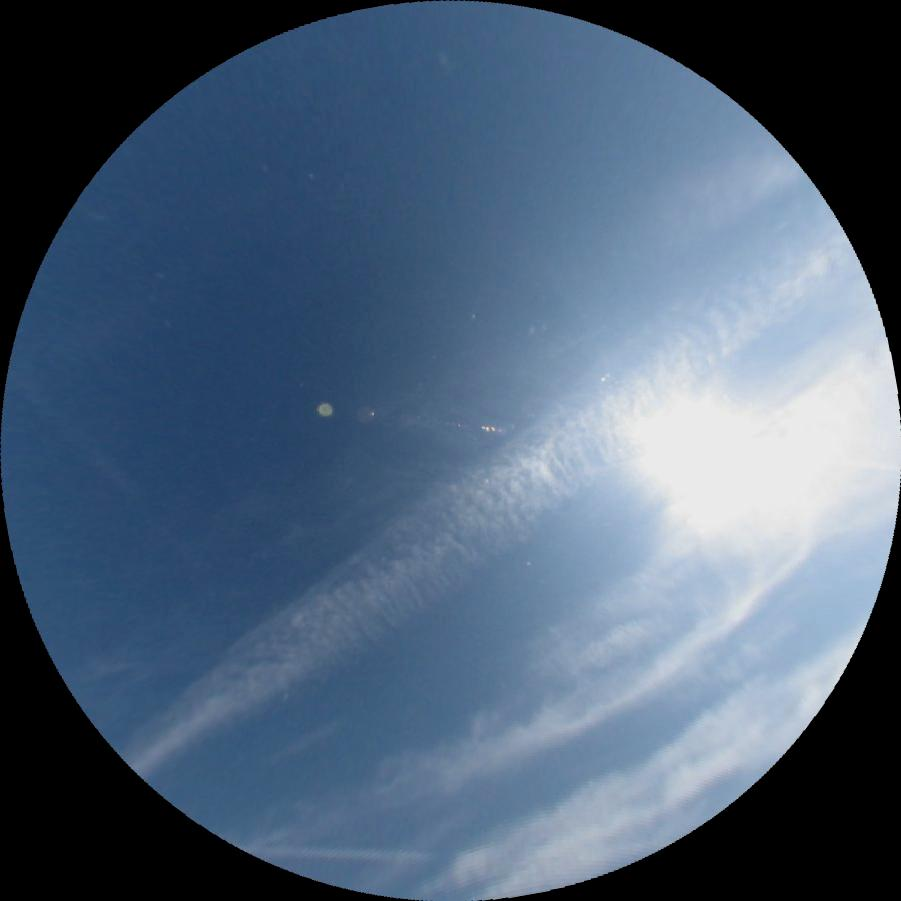contrail veryold: (112, 177, 876, 834)
contrail young: (237, 843, 430, 862)
sun: (632, 390, 767, 511)
